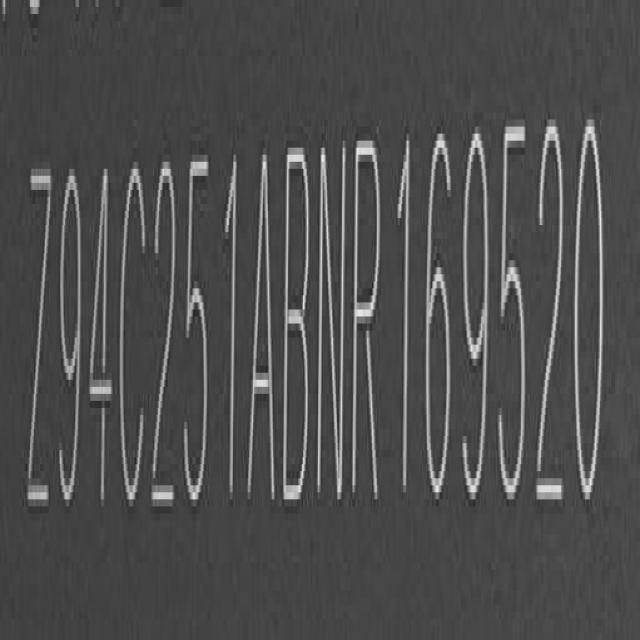0: (574, 120, 608, 511)
1: (219, 148, 241, 513), (398, 125, 416, 503)
2: (538, 120, 570, 512), (151, 155, 177, 525)
4: (89, 164, 116, 520)
5: (500, 116, 530, 513), (186, 148, 212, 520)
6: (425, 127, 455, 509)
9: (462, 121, 492, 509), (55, 162, 83, 522)
A: (248, 141, 277, 513)
B: (284, 134, 315, 510)
C: (117, 167, 148, 508)
N: (317, 135, 348, 511)
R: (352, 130, 385, 510)
Z: (23, 159, 52, 532)
